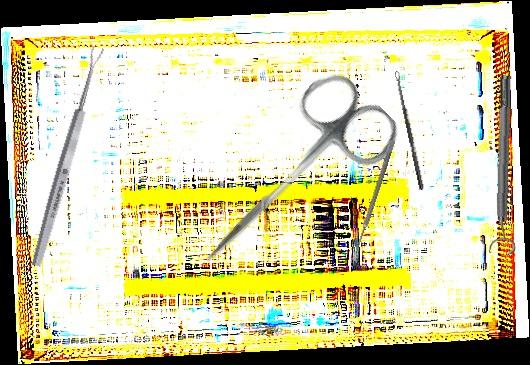Fixation Ring: (486, 75, 522, 254)
Iris Scissors: (172, 61, 409, 301)
Surgical Spoon: (29, 45, 106, 268), (349, 139, 396, 265), (394, 70, 425, 191)
